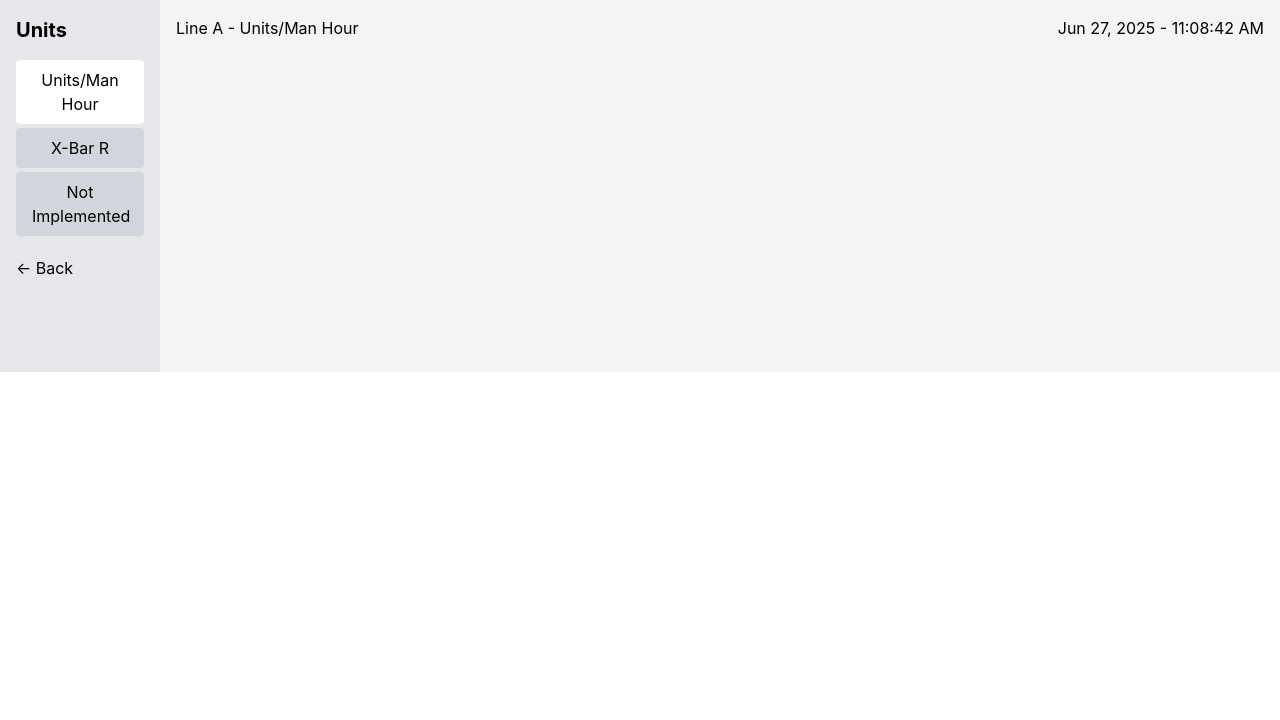
Test case: LineUnitsPage › switches to X-Bar R graph
Click the button with test id "tab-x-bar-r".
click(80, 148)  # box [16,128,144,168]
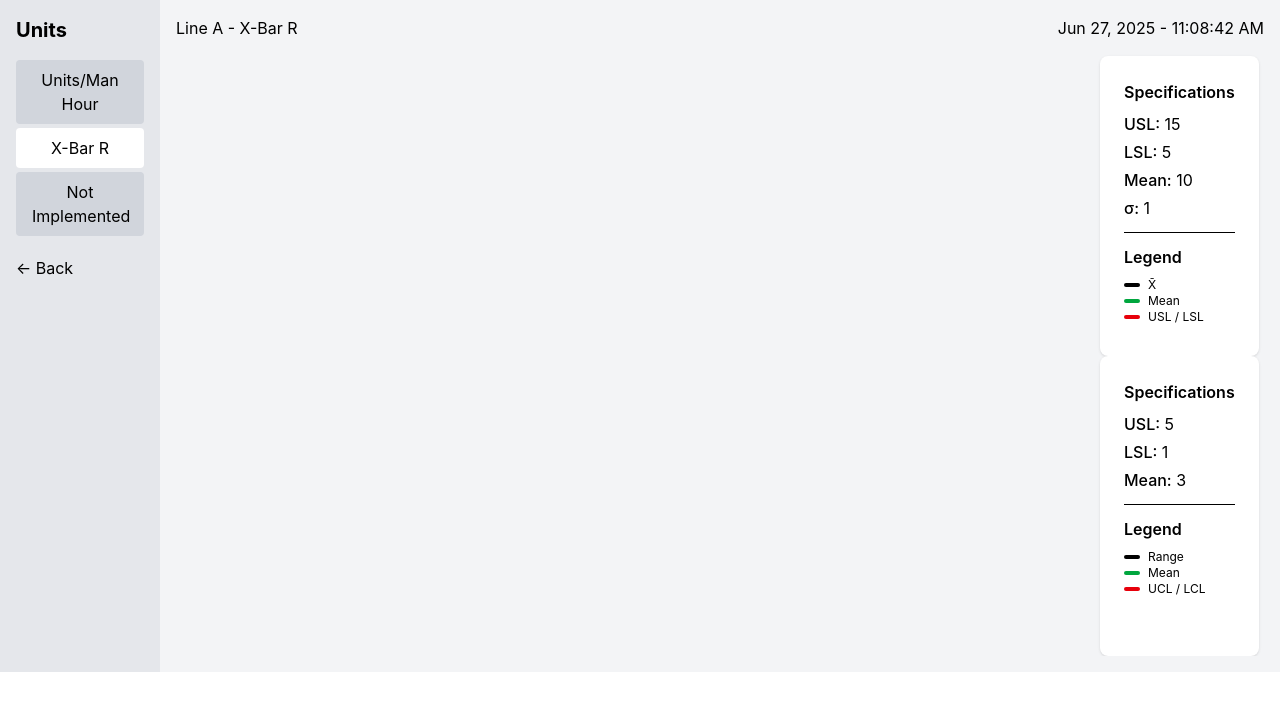
expect the element with test id "graph-xbar-r" is shown: met
